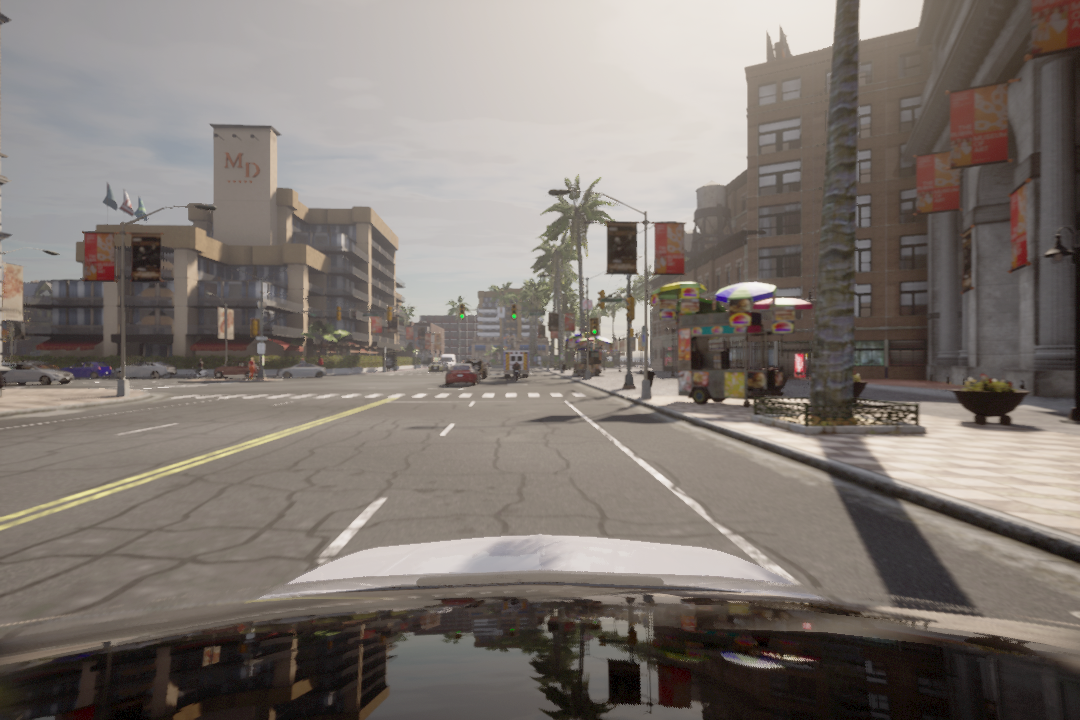TrafficLight: (588, 316, 600, 336), (457, 303, 469, 320), (510, 303, 520, 323)
walkside: (168, 391, 597, 401)
